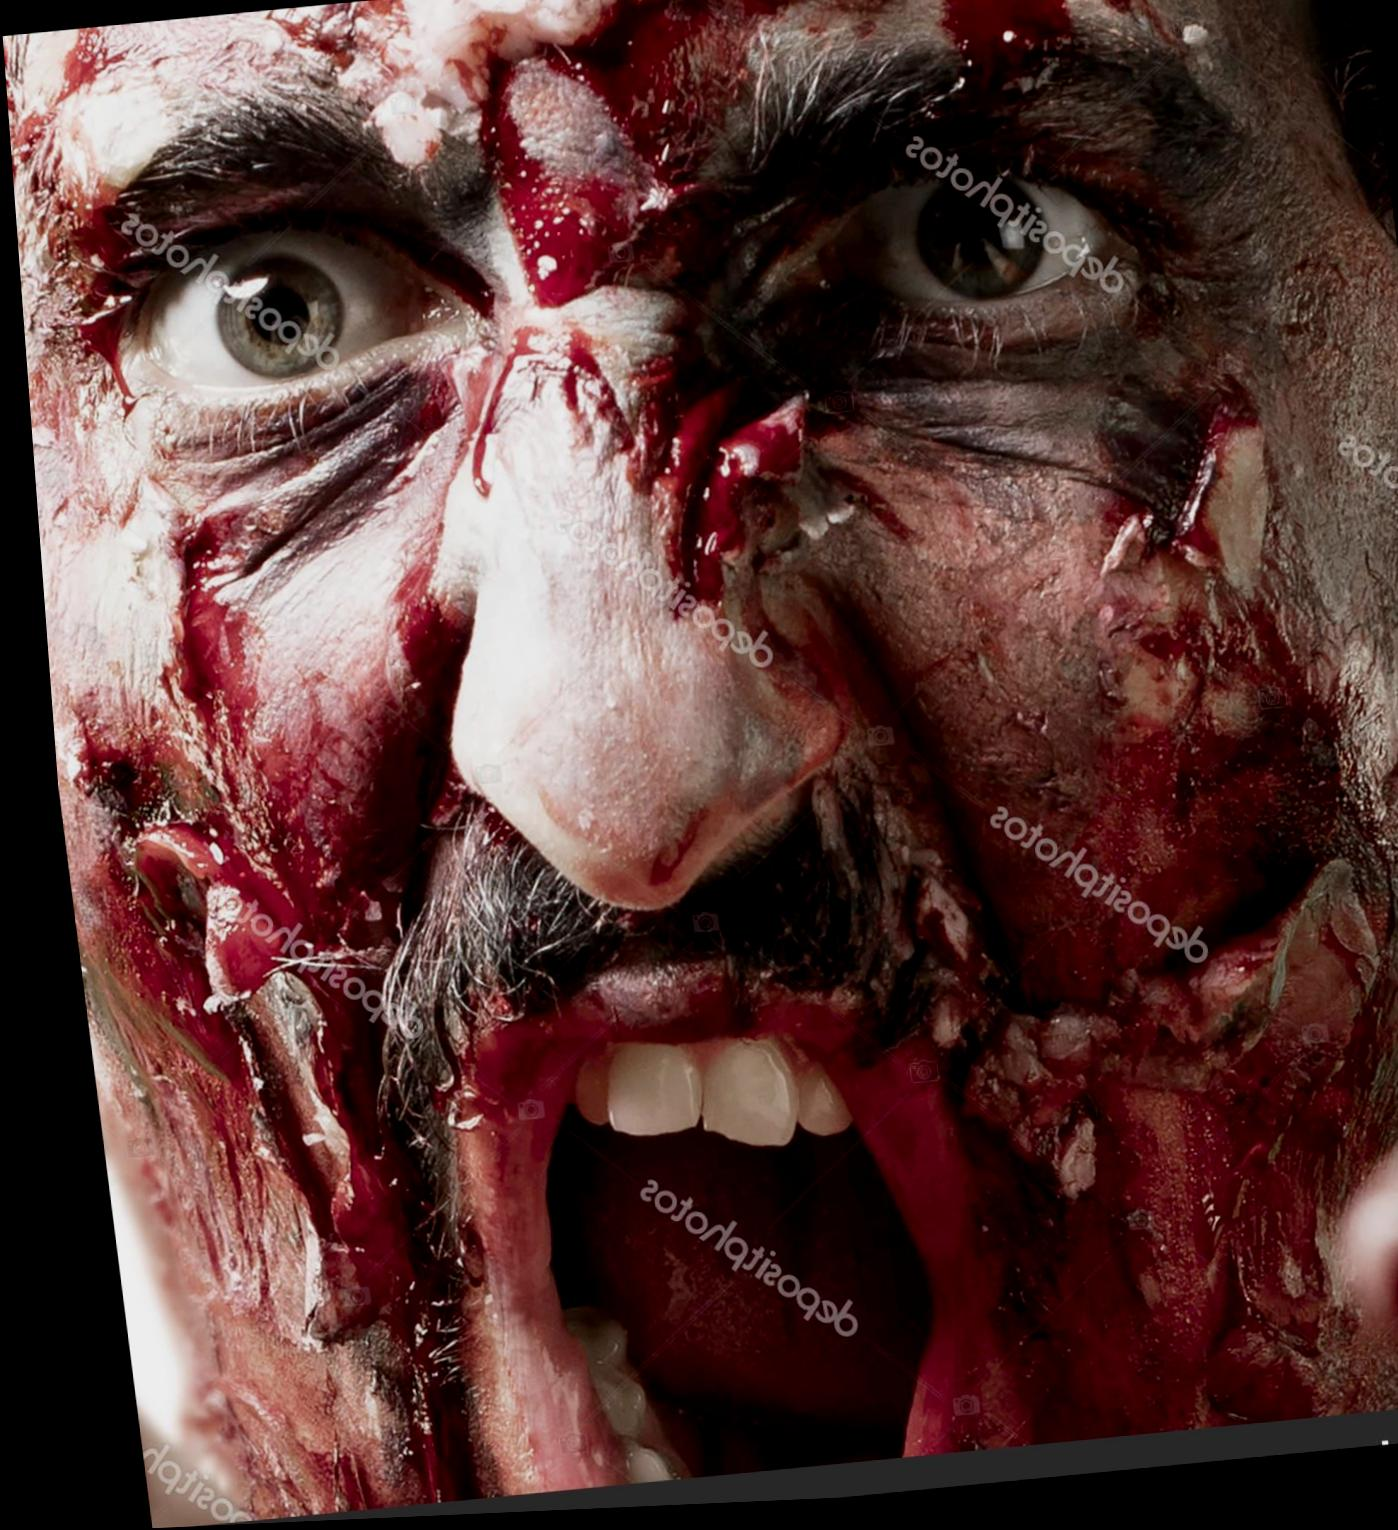Fire: (3, 0, 1398, 1519)
